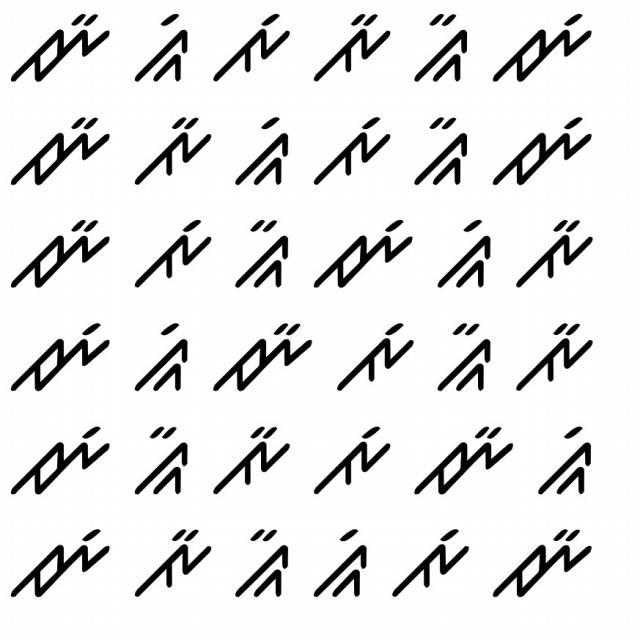an: (306, 7, 392, 97), (511, 209, 603, 293), (126, 109, 217, 191), (509, 314, 595, 396), (206, 422, 293, 498), (127, 526, 212, 602)
ang: (307, 108, 394, 194), (207, 5, 297, 85), (133, 212, 222, 292), (304, 423, 394, 500), (386, 526, 472, 606), (331, 315, 417, 391)
nggan: (230, 521, 296, 607), (408, 9, 472, 97), (131, 423, 199, 500), (414, 113, 476, 195), (436, 317, 496, 396), (236, 216, 296, 292)
nggang: (228, 106, 295, 200), (126, 10, 198, 97), (122, 317, 196, 397), (536, 419, 604, 504), (308, 528, 374, 609), (434, 212, 496, 298)
njan: (4, 108, 110, 196), (214, 315, 321, 402), (10, 7, 110, 98), (4, 216, 113, 296), (485, 526, 593, 606), (416, 426, 518, 502)
njang: (5, 311, 114, 399), (9, 516, 114, 605), (492, 7, 598, 94), (489, 106, 596, 192), (308, 216, 417, 292), (8, 423, 117, 499)
